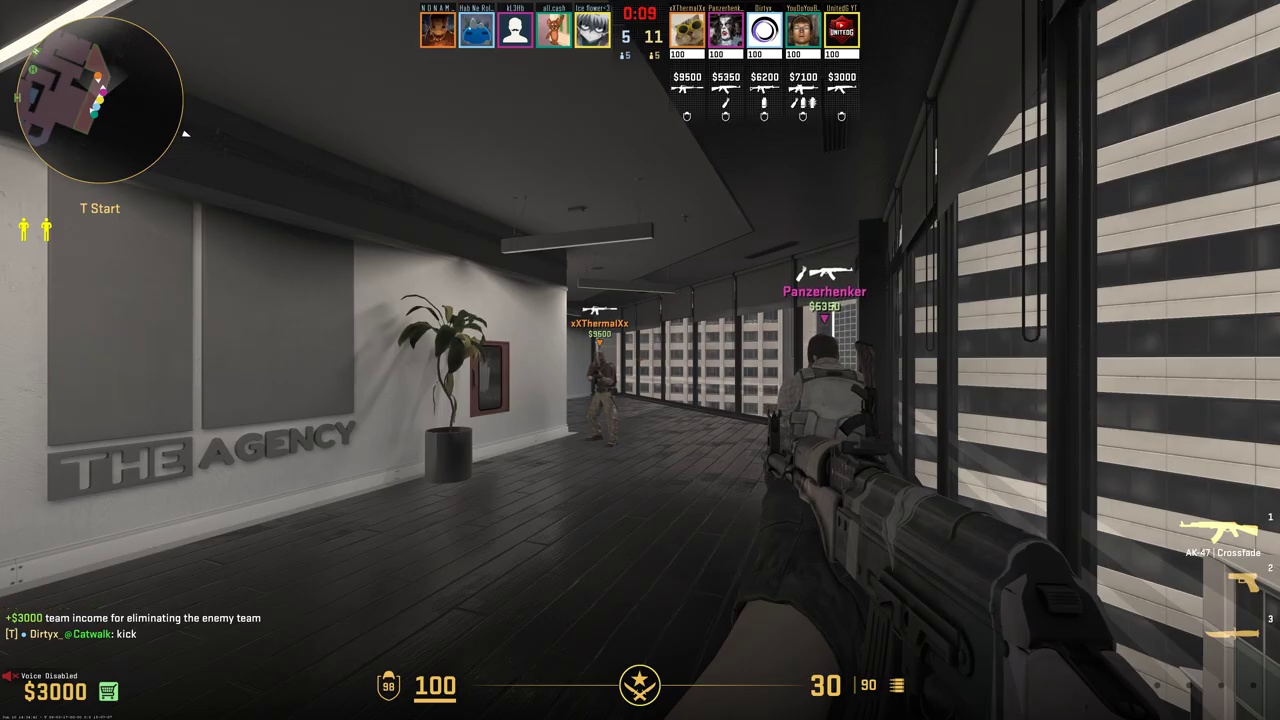Terrorist: (778, 333, 876, 458), (588, 351, 617, 447)
